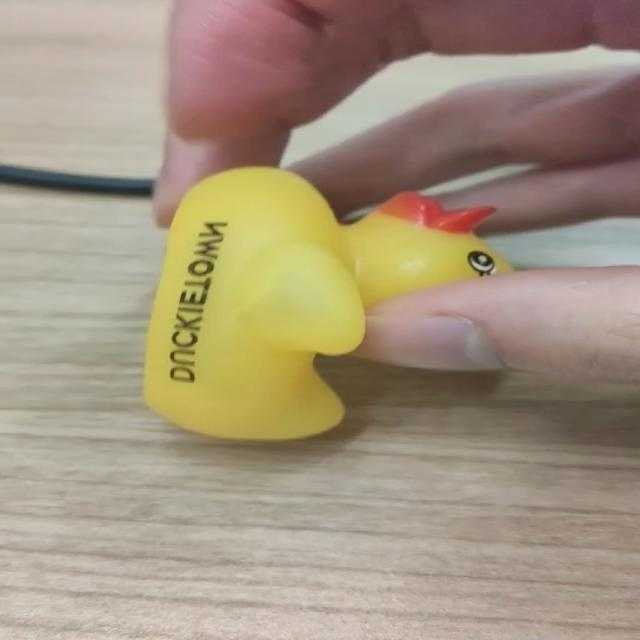rubber-duck: (143, 166, 509, 437)
